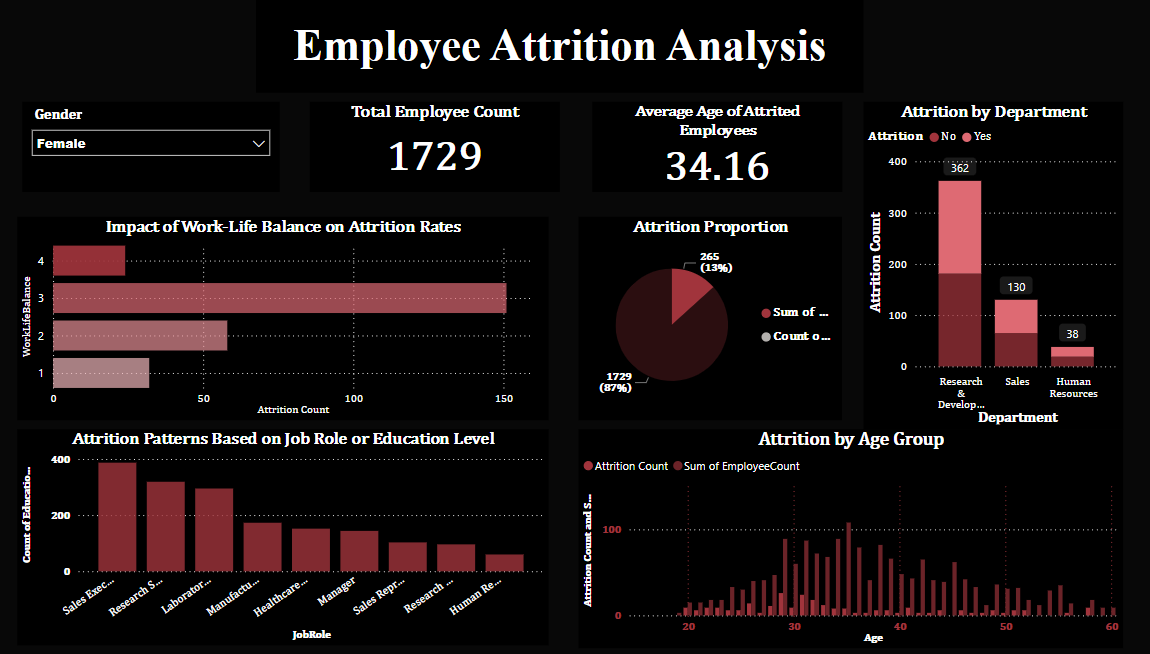

The dashboard page shown, as its layout file describes it:
{"tool":"powerbi","page":{"name":"Page 1","canvas":[1280,720],"ordinal":0},"visuals":[{"type":"card","title":"Total Employee Count","fields":{"Values":["Sum(Attrition data.EmployeeCount)"]},"box":[350,112.2,270.3,97.3],"z":0},{"type":"pieChart","title":"Attrition Proportion","fields":{"Y":["Sum(Attrition data.Attrition Status)","CountNonNull(Attrition data.Attrition)"]},"box":[640.5,236.5,285.1,220.3],"z":1000},{"type":"columnChart","title":"Attrition by Department","fields":{"Category":["Attrition data.Department"],"Series":["Attrition data.Attrition"],"Y":["Attrition data.Attrition Count"]},"box":[948.6,112.2,281.1,354.1],"z":2000},{"type":"shape","box":[291.9,0,656.8,102.7],"z":3000},{"type":"clusteredColumnChart","title":"Attrition by Age Group","fields":{"Y":["Attrition data.Attrition Count","Sum(Attrition data.EmployeeCount)"],"Category":["Attrition data.Age"]},"box":[640.5,466.2,589.2,236.5],"z":4000},{"type":"card","title":"Average Age of Attrited Employees","fields":{"Values":["AgeGroups.Average Age of Attrited Employees"]},"box":[655.4,112.2,270.3,97.3],"z":6000},{"type":"clusteredColumnChart","title":"Attrition Patterns Based on Job Role or Education Level","fields":{"Y":["CountNonNull(Attrition data.EducationField)"],"Category":["Attrition data.JobRole"]},"box":[33.8,466.2,574.3,233.8],"z":7000},{"type":"clusteredBarChart","title":"Impact of Work-Life Balance on Attrition Rates","fields":{"Y":["Attrition data.Attrition Count"],"Category":["Attrition data.WorkLifeBalance"]},"box":[33.8,236.5,574.3,220.3],"z":8000},{"type":"slicer","fields":{"Values":["Attrition data.Gender"]},"box":[39.2,112.2,278.4,97.3],"z":9000}]}

Visuals, with their boxes in screenshot pixels (x1, y1, x2, y2), scaled from the page's 1280x720 canvas onto the 1150x654 screenshot:
"Total Employee Count" card: [left=314, top=102, right=557, bottom=190]
"Attrition Proportion" pieChart: [left=575, top=215, right=832, bottom=415]
"Attrition by Department" columnChart: [left=852, top=102, right=1105, bottom=424]
shape: [left=262, top=0, right=852, bottom=93]
"Attrition by Age Group" clusteredColumnChart: [left=575, top=423, right=1105, bottom=638]
"Average Age of Attrited Employees" card: [left=589, top=102, right=832, bottom=190]
"Attrition Patterns Based on Job Role or Education Level" clusteredColumnChart: [left=30, top=423, right=546, bottom=636]
"Impact of Work-Life Balance on Attrition Rates" clusteredBarChart: [left=30, top=215, right=546, bottom=415]
slicer - Attrition data.Gender: [left=35, top=102, right=285, bottom=190]
